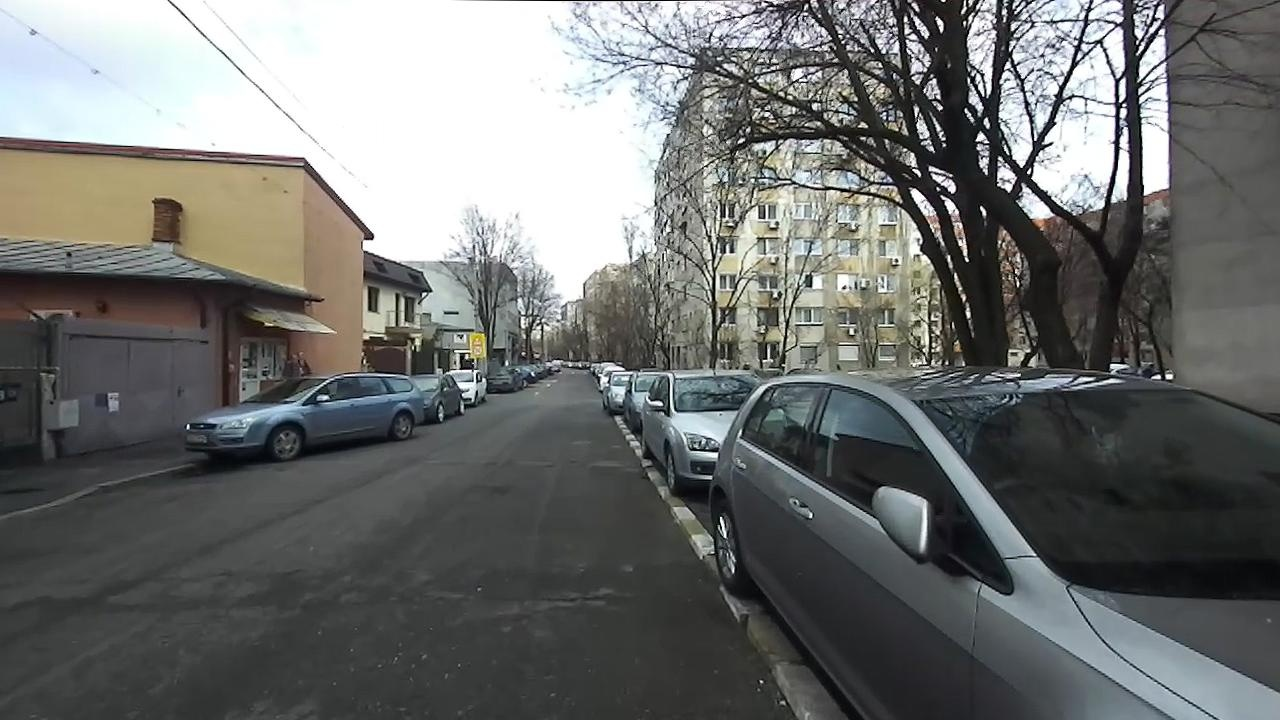pothole: (510, 577, 619, 612)
